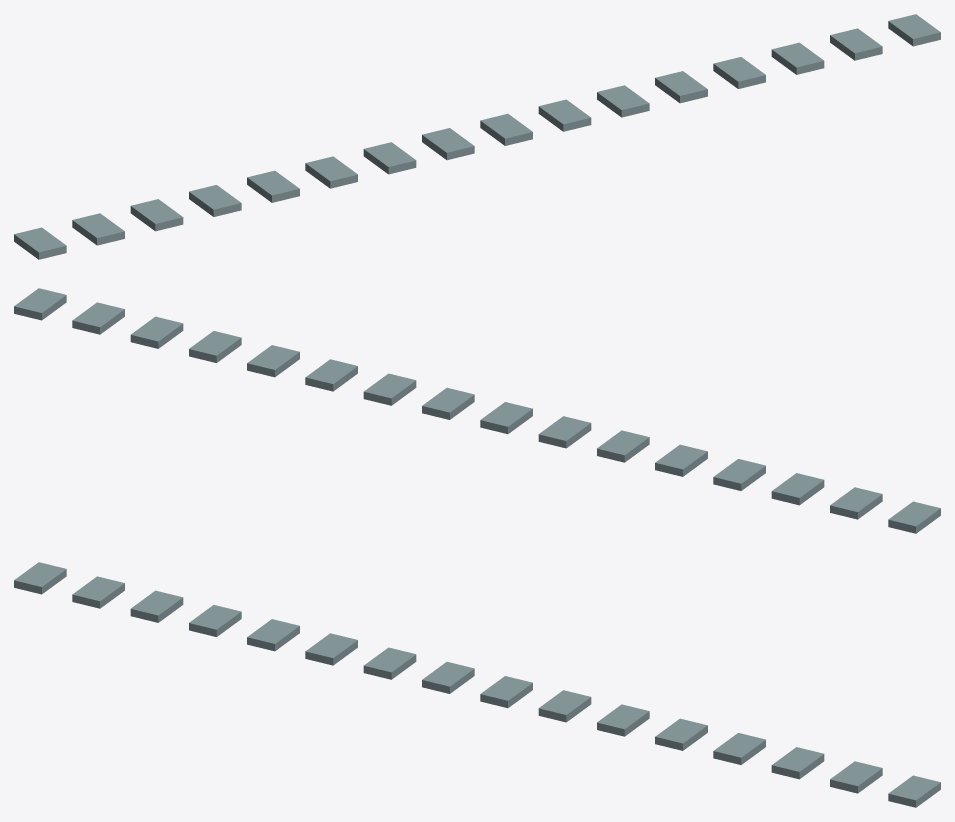
Rendered from RoadPlan_Drain_L2_ReplaceableGrate.glb.
3 renders of one model, top to bottom at view 1: azimuth 30°, elevation 25°; view 2: azimuth 150°, elevation 25°; view 3: azimuth 330°, elevation 25°, orthographic.
Parts seen in each view (by area): view 1: RoadPlan_Drain_L2_ReplaceableGrate; view 2: RoadPlan_Drain_L2_ReplaceableGrate; view 3: RoadPlan_Drain_L2_ReplaceableGrate.
Boxes of the visible parts, left/top/right/bottom form: RoadPlan_Drain_L2_ReplaceableGrate: left=14, top=14, right=940, bottom=259; RoadPlan_Drain_L2_ReplaceableGrate: left=14, top=288, right=940, bottom=533; RoadPlan_Drain_L2_ReplaceableGrate: left=14, top=562, right=940, bottom=807.
Bounding box in the file's own units: 1.78 × 0.014 × 0.085.
